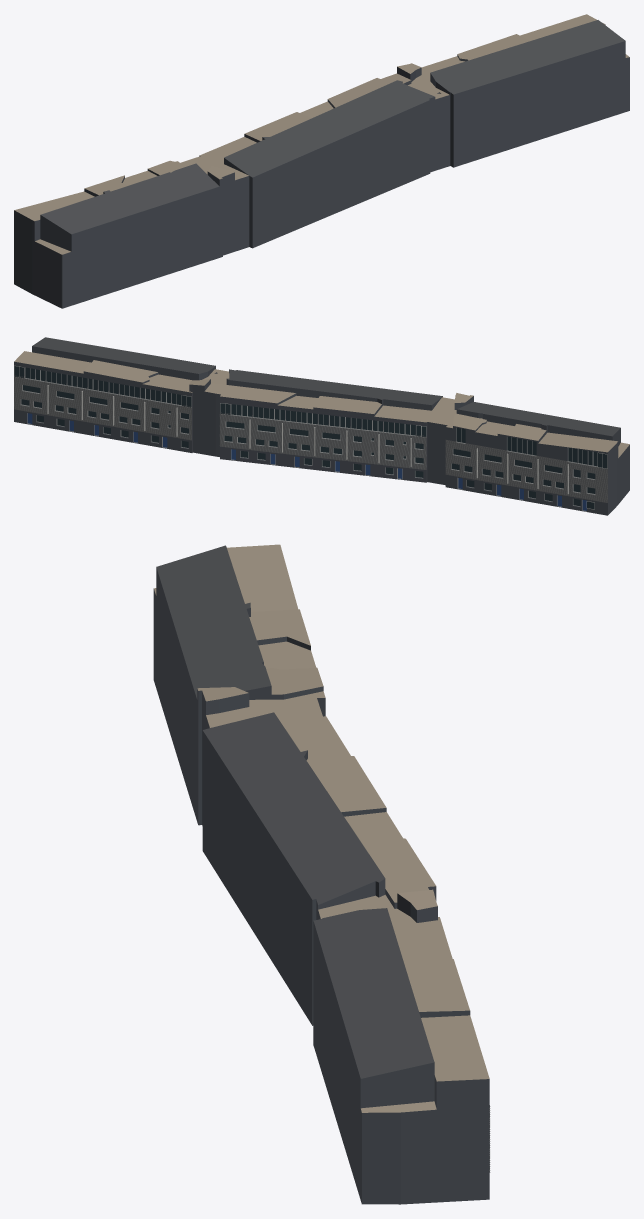
File: recipe-large-flevoparkweg-2-136169.glb
The picture shows the model from 3 angles, top to bottom: view 1: azimuth 30°, elevation 25°; view 2: azimuth 150°, elevation 25°; view 3: azimuth 270°, elevation 25°; orthographic projection. The views are drawn at different scales.
Parts seen in each view (by area): view 1: flevoparkweg-2-136169; view 2: flevoparkweg-2-136169; view 3: flevoparkweg-2-136169.
Part boxes in pixels (bbox=[...]): flevoparkweg-2-136169: bbox=[14, 14, 629, 308]; flevoparkweg-2-136169: bbox=[14, 337, 629, 515]; flevoparkweg-2-136169: bbox=[153, 544, 490, 1204].
Size of the model in its own units: 106 by 12.81 by 28.33.
